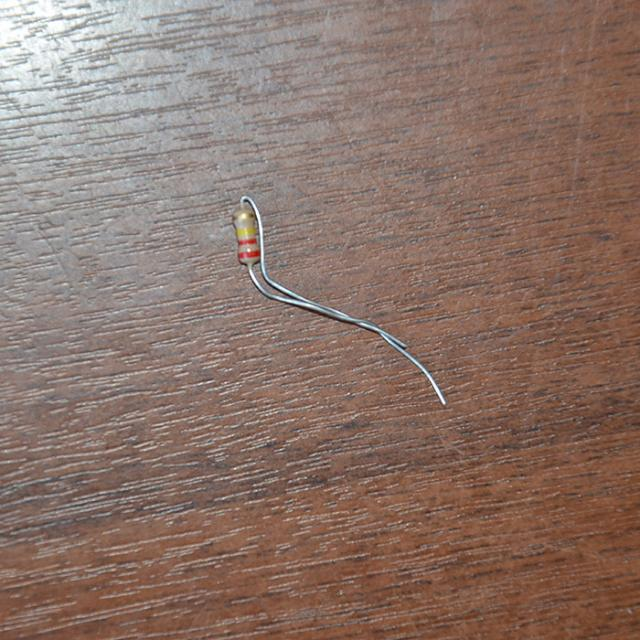gold: (234, 213, 254, 221)
red: (238, 251, 258, 258), (239, 239, 256, 247)
resistor: (227, 199, 268, 275)
yellow: (238, 227, 254, 235)
